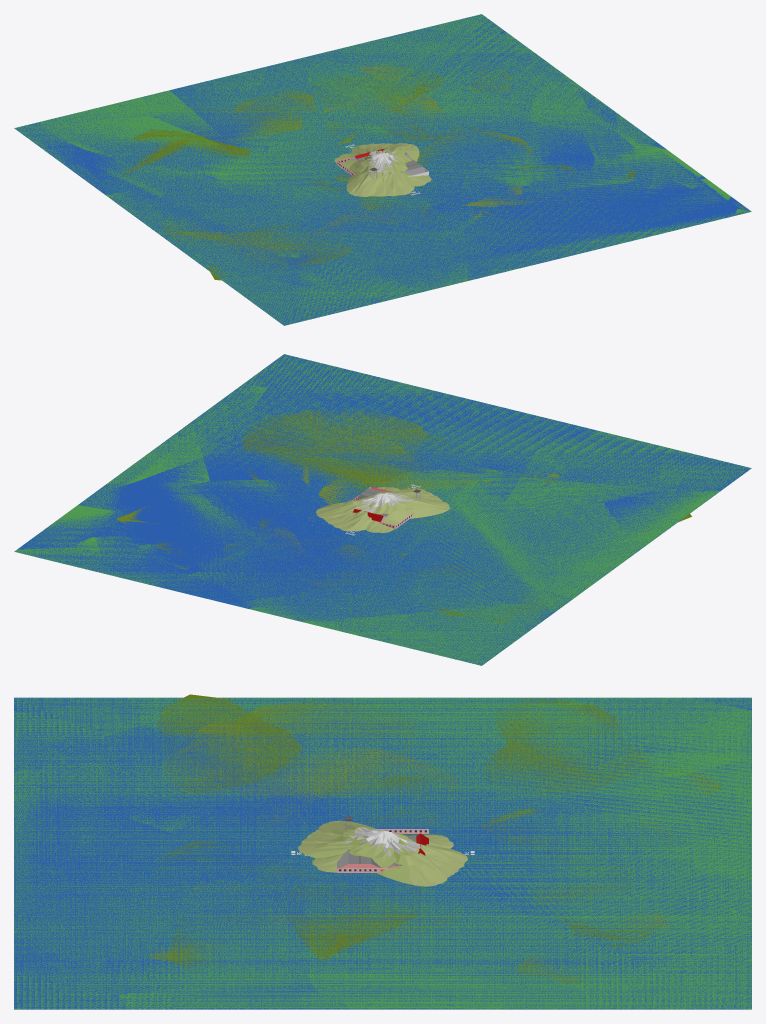
File: korea.glb
3 views of the same model, one above another, from view 1: azimuth 30°, elevation 25°; view 2: azimuth 150°, elevation 25°; view 3: azimuth 270°, elevation 25° (orthographic). The views are drawn at different scales.
Parts seen in each view (by area): view 1: korea_108_lod0, korea_139_lod0, korea_131_lod0, korea_128_lod0, korea_130_lod0, korea_137_lod0, korea_135_lod0, korea_156_lod0, korea_132_lod0, korea_106_lod0_forest, korea_151_lod0, korea_107_lod0_forest (+16 smaller); view 2: korea_145_lod0, korea_131_lod0, korea_108_lod0, korea_128_lod0, korea_141_lod0, korea_154_lod0, korea_142_lod0, korea_133_lod0, korea_107_lod0_forest, korea_143_lod0, korea_105_lod0_forest, korea_132_lod0 (+18 smaller); view 3: korea_108_lod0, korea_130_lod0, korea_129_lod0, korea_134_lod0, korea_139_lod0, korea_132_lod0, korea_128_lod0, korea_131_lod0, korea_136_lod0, korea_106_lod0_forest, korea_107_lod0_forest, korea_151_lod0 (+24 smaller).
Boxes of the visible parts, bbox=[...] form: korea_108_lod0: bbox=[15, 14, 751, 325]; korea_139_lod0: bbox=[22, 34, 748, 318]; korea_131_lod0: bbox=[16, 17, 747, 323]; korea_128_lod0: bbox=[16, 14, 750, 324]; korea_130_lod0: bbox=[16, 15, 747, 325]; korea_137_lod0: bbox=[44, 19, 749, 322]; korea_135_lod0: bbox=[22, 17, 726, 324]; korea_156_lod0: bbox=[33, 50, 743, 316]; korea_132_lod0: bbox=[18, 16, 746, 321]; korea_106_lod0_forest: bbox=[99, 66, 522, 280]; korea_151_lod0: bbox=[68, 24, 587, 311]; korea_107_lod0_forest: bbox=[159, 106, 636, 254]; korea_145_lod0: bbox=[45, 359, 745, 657]; korea_131_lod0: bbox=[27, 356, 750, 664]; korea_108_lod0: bbox=[14, 355, 751, 665]; korea_128_lod0: bbox=[21, 354, 749, 665]; korea_141_lod0: bbox=[100, 357, 734, 652]; korea_154_lod0: bbox=[85, 365, 739, 637]; korea_142_lod0: bbox=[15, 359, 747, 663]; korea_133_lod0: bbox=[27, 355, 748, 663]; korea_107_lod0_forest: bbox=[242, 414, 647, 623]; korea_143_lod0: bbox=[20, 355, 739, 657]; korea_105_lod0_forest: bbox=[117, 410, 573, 558]; korea_132_lod0: bbox=[23, 357, 746, 665]; korea_108_lod0: bbox=[14, 697, 751, 1009]; korea_130_lod0: bbox=[14, 697, 751, 1009]; korea_129_lod0: bbox=[14, 697, 751, 1009]; korea_134_lod0: bbox=[14, 697, 751, 1009]; korea_139_lod0: bbox=[14, 698, 751, 1008]; korea_132_lod0: bbox=[14, 697, 751, 1009]; korea_128_lod0: bbox=[14, 697, 751, 1009]; korea_131_lod0: bbox=[14, 698, 751, 1009]; korea_136_lod0: bbox=[14, 698, 750, 1009]; korea_106_lod0_forest: bbox=[157, 694, 670, 946]; korea_107_lod0_forest: bbox=[146, 701, 721, 978]; korea_151_lod0: bbox=[14, 698, 751, 1004].
Size of what is drawn, in the model's own units: 4139 by 138 by 4096.
